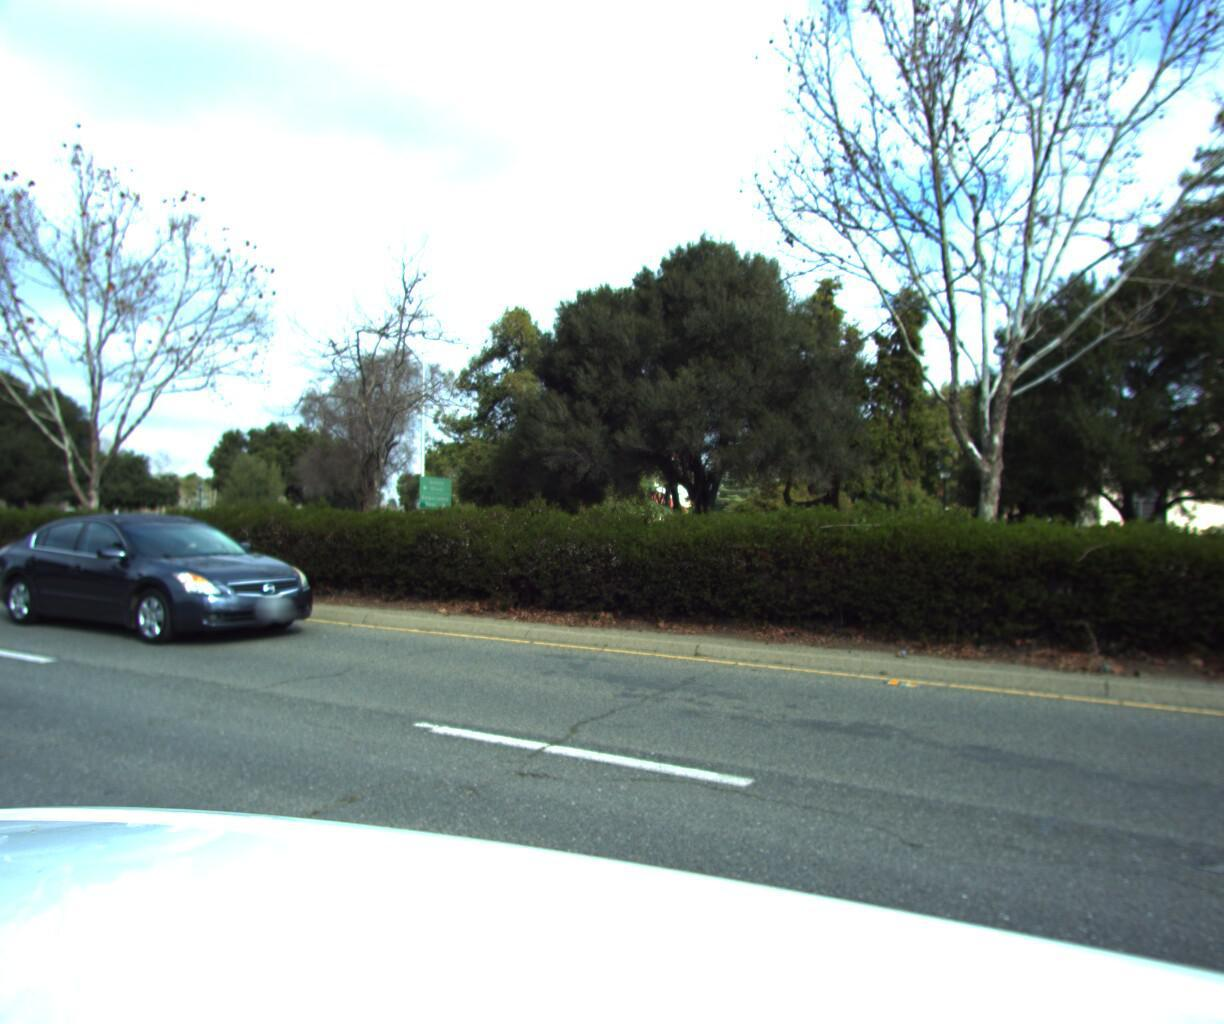car: (0, 508, 340, 657), (1161, 521, 1224, 604)
